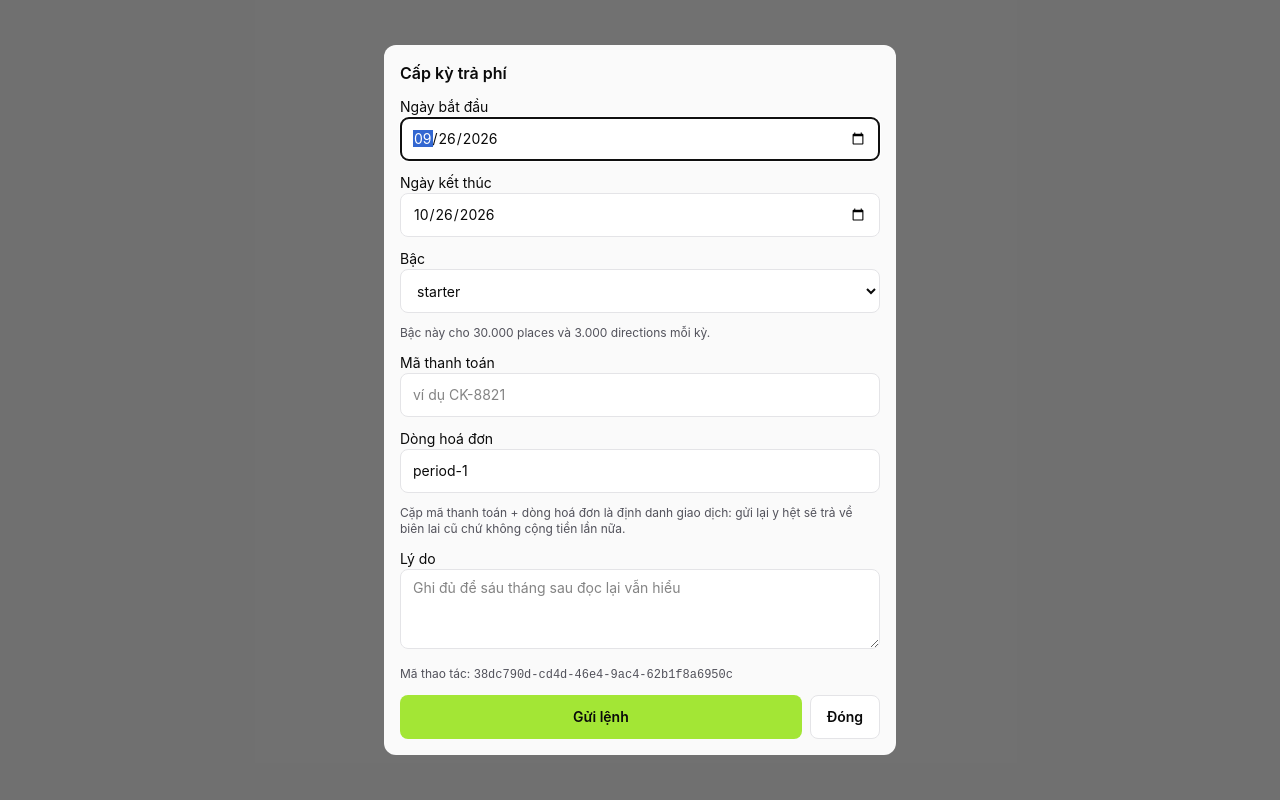
Test: CommandDialog › thiếu lý do → chặn tại chỗ, KHÔNG gọi hàm gửi
The image size is (1280, 800).
Type "CK-1" into the field labelled "Mã thanh toán". click: (640, 395)
box: [400,373,880,417]
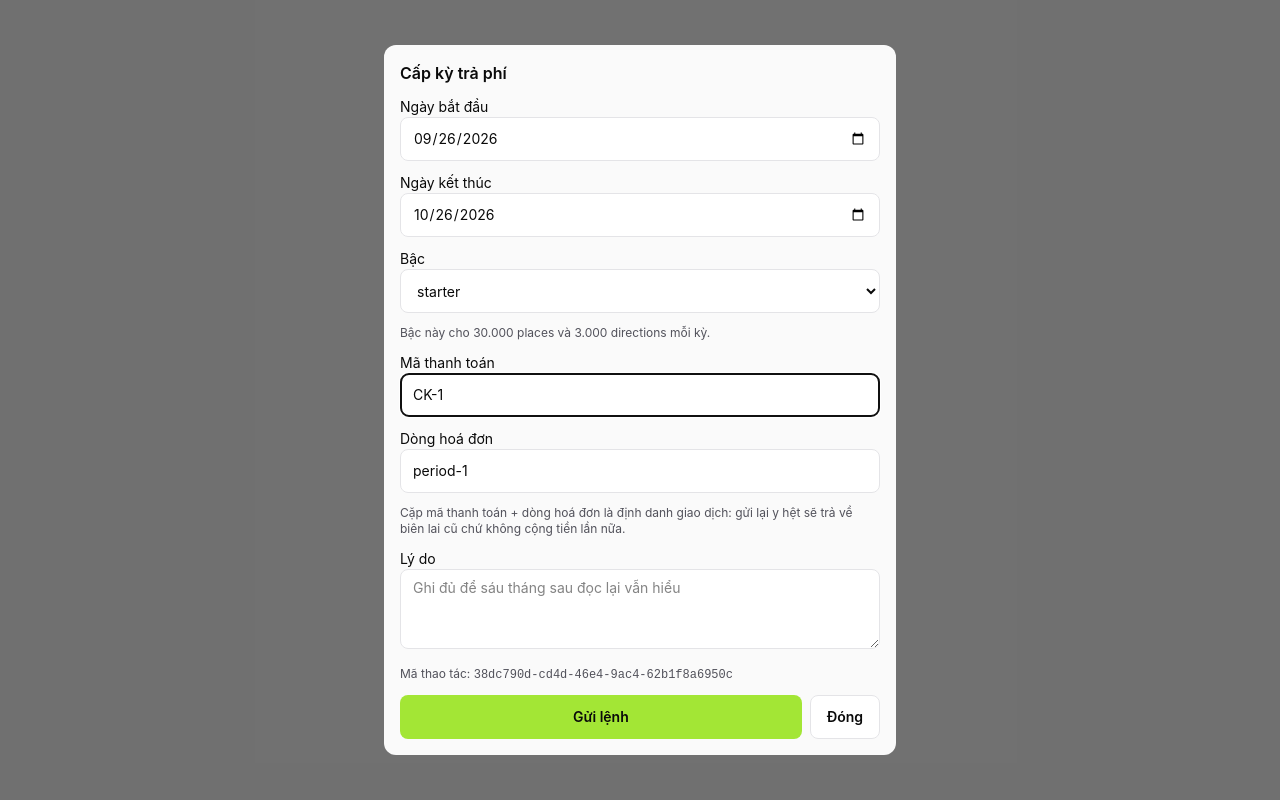
Click the button "Gửi lệnh". click: (601, 717)
box: [400,695,802,739]
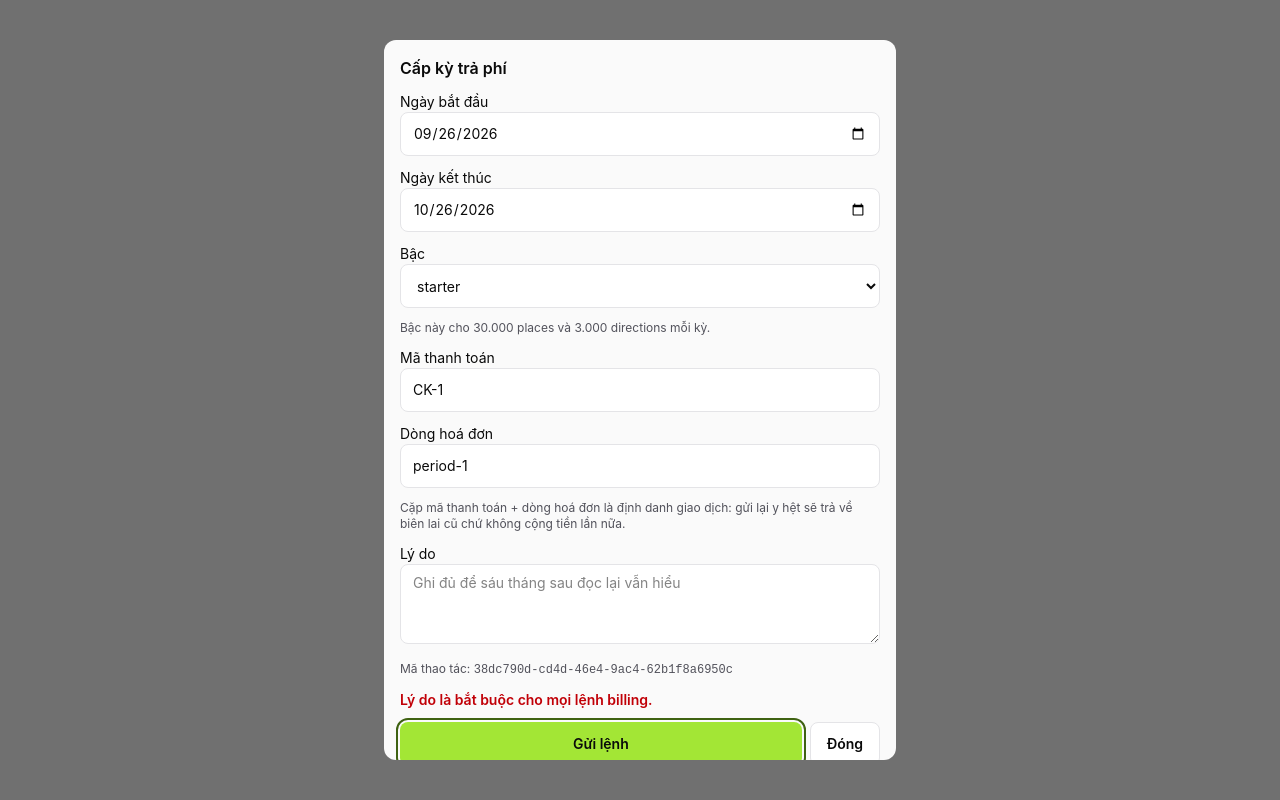
Result: the text "Lý do là bắt buộc cho mọi lệnh billing." is shown at [400,691,652,708]
